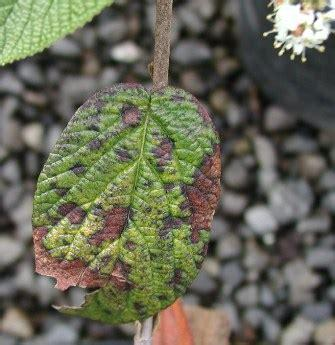black-spot: (56, 188, 139, 253)
